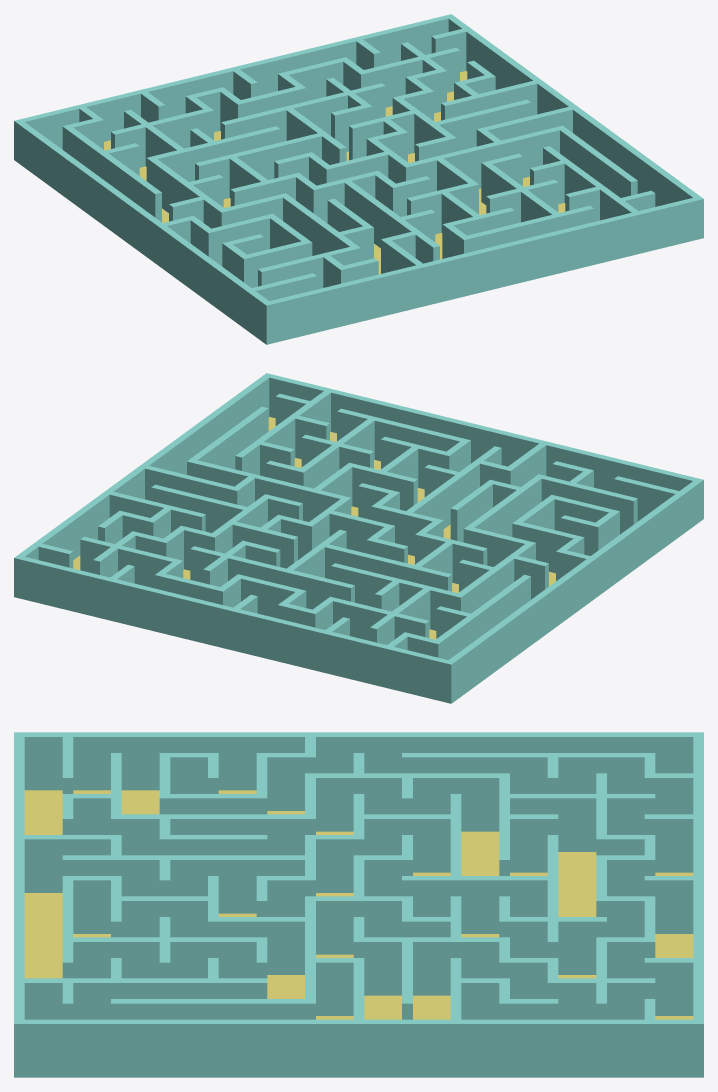
File: Level38Ground.FBX
The picture shows the model from 3 angles, top to bottom: view 1: azimuth 30°, elevation 25°; view 2: azimuth 150°, elevation 25°; view 3: azimuth 270°, elevation 25°; orthographic projection. The views are drawn at different scales.
Parts seen in each view (by area): view 1: Labyrinth003; view 2: Labyrinth003; view 3: Labyrinth003.
Boxes of the visible parts, x1,y1,x2,y2 form: Labyrinth003: (14, 14, 703, 344); Labyrinth003: (14, 373, 703, 703); Labyrinth003: (14, 732, 703, 1077).
Size of the model in its own units: 327 by 28 by 327.
